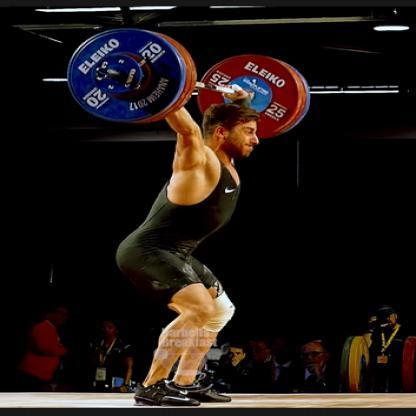barbell: (66, 26, 312, 136)
